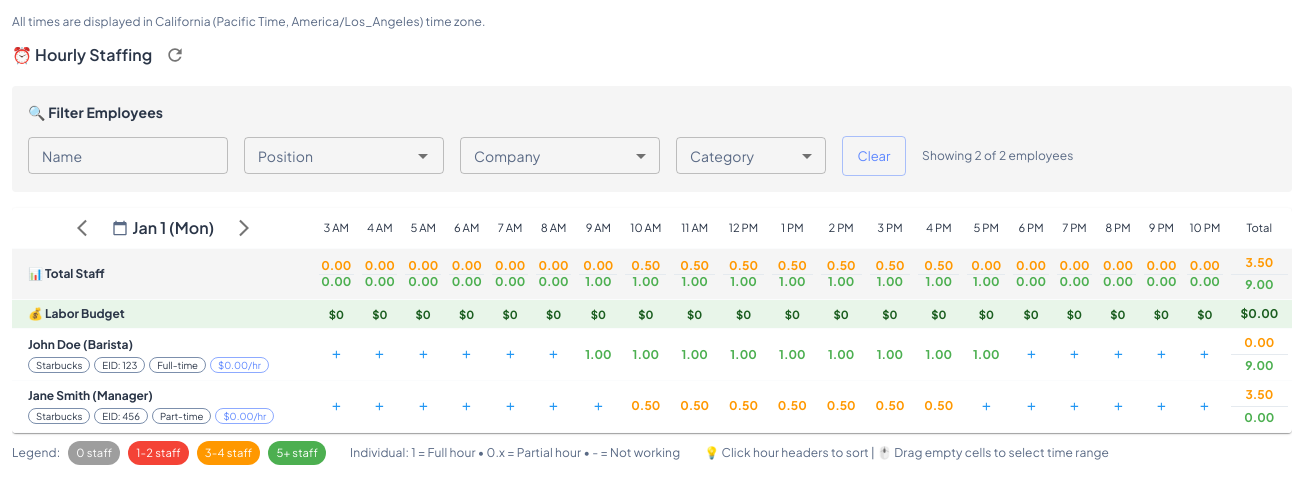
Test case: HourlyStaffingTable › Filtering › clears all filters when clear button is clicked
Check: the button "Clear" is shown, box x1=842 y1=136 x2=906 y2=176
Type "test" into the field labelled "Name" at (128, 156), box x1=28 y1=137 x2=228 y2=174
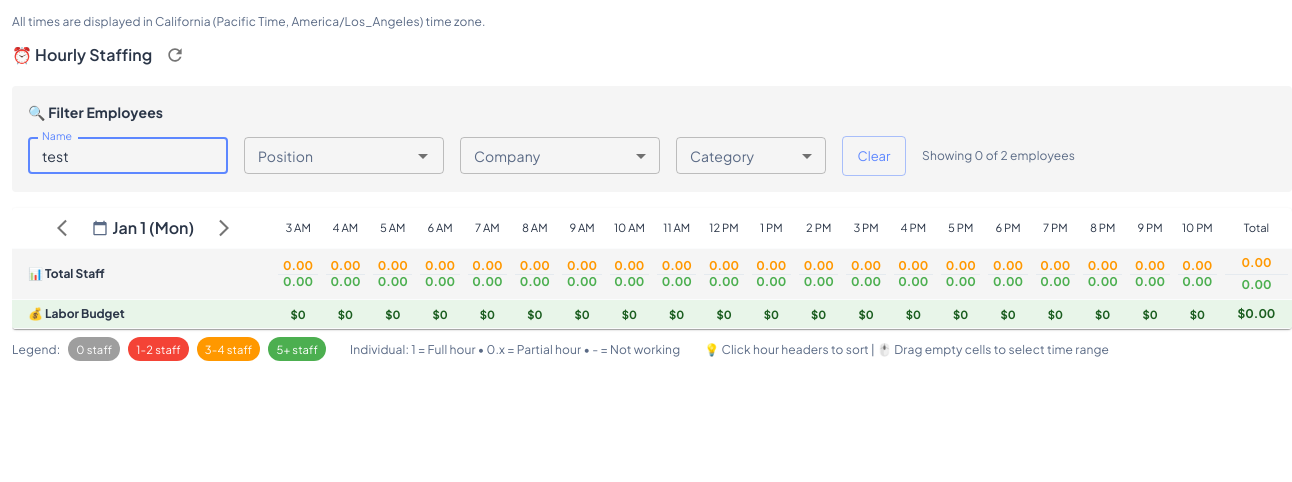
Click the button "Clear" at (874, 156), box x1=842 y1=136 x2=906 y2=176
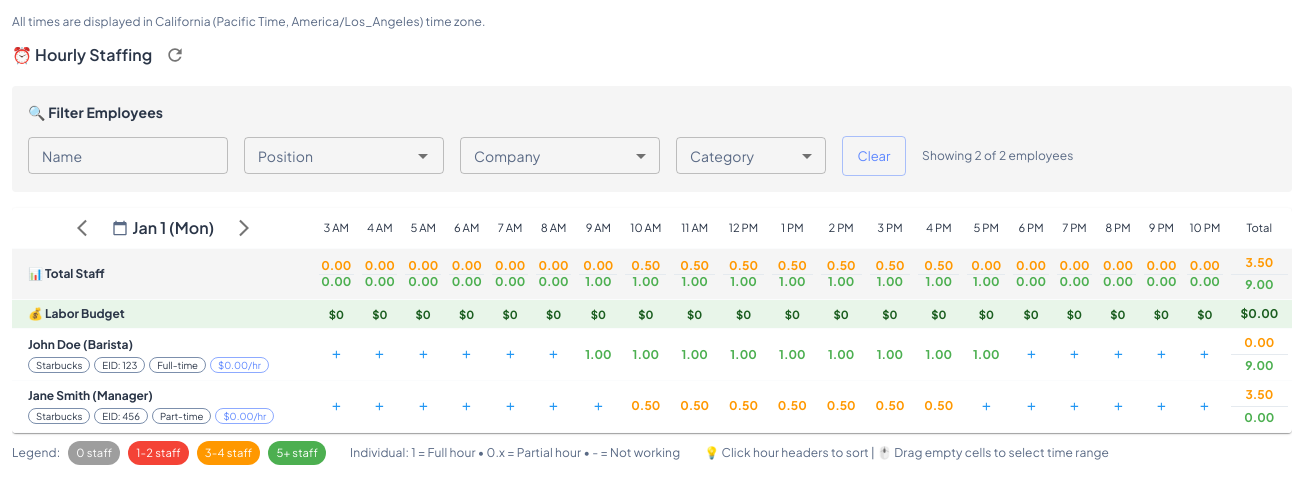
Check: the field labelled "Name" is empty, box x1=28 y1=137 x2=228 y2=174
